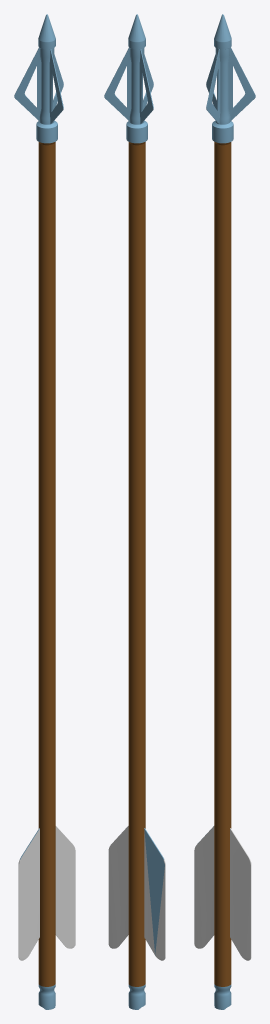
Rendered from janissaryArrow.fbx.
3 views of the same model, side by side, from view 1: azimuth 30°, elevation 25°; view 2: azimuth 150°, elevation 25°; view 3: azimuth 330°, elevation 25° (orthographic).
Visible parts, largest first — view 1: Arrow; view 2: Arrow; view 3: Arrow.
Part boxes in pixels (x1,y1,x2,y2): Arrow: (14,14,75,1009); Arrow: (104,14,165,1009); Arrow: (194,14,255,1009).
Bounding box in the file's own units: 4.22 × 70.41 × 3.19.
